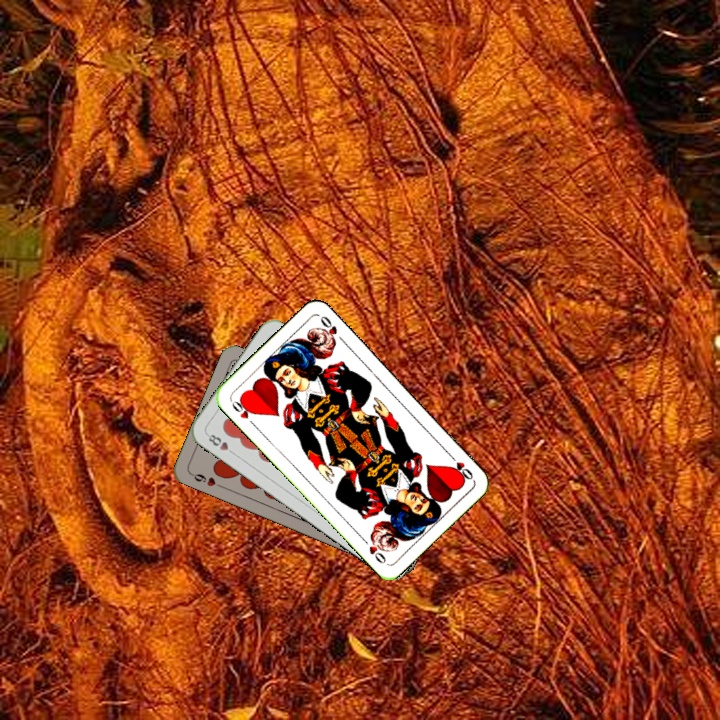H8: (203, 430, 238, 458)
H9: (187, 469, 225, 491)
HO: (227, 395, 258, 429), (445, 449, 476, 483)
